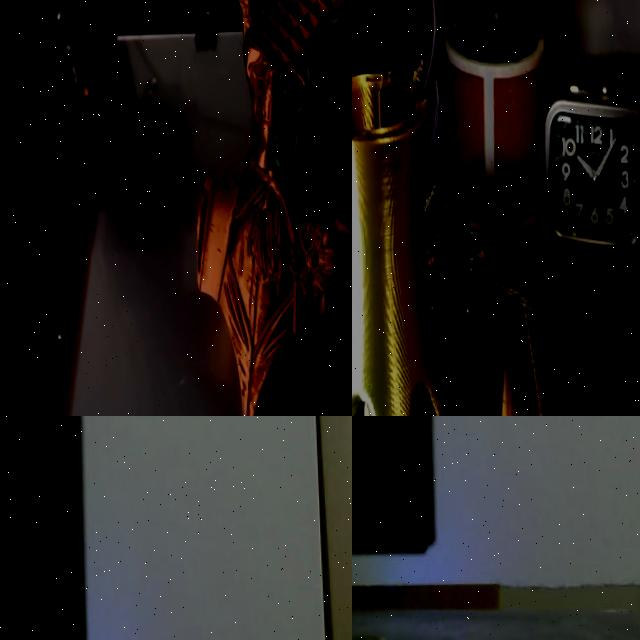spaghetti: (406, 54, 426, 82)
